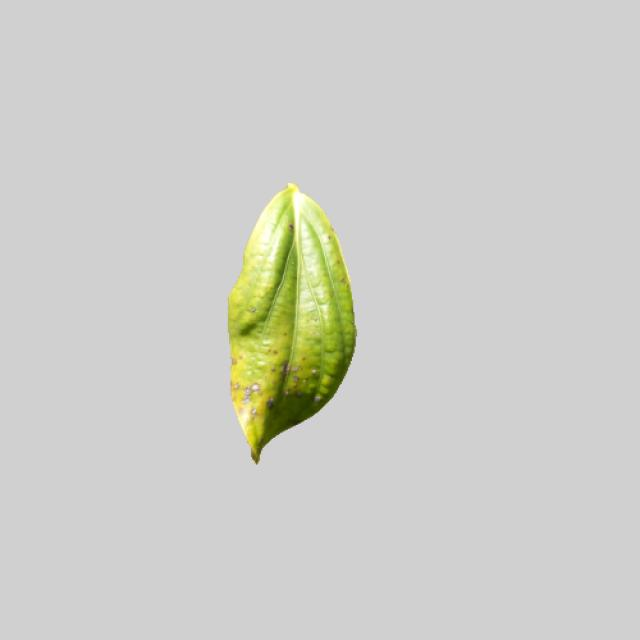yellow-mottle-virus: (218, 180, 361, 466)
